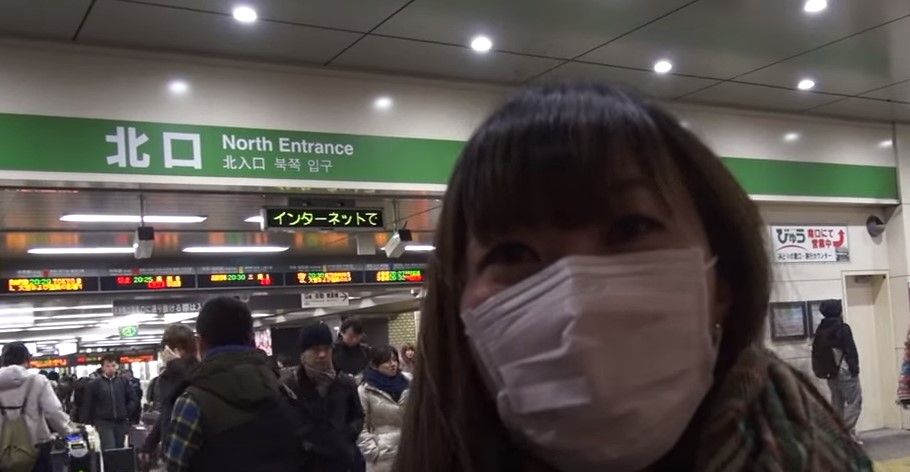face_no_mask: (367, 343, 401, 379)
face_with_mask: (456, 125, 726, 472)
